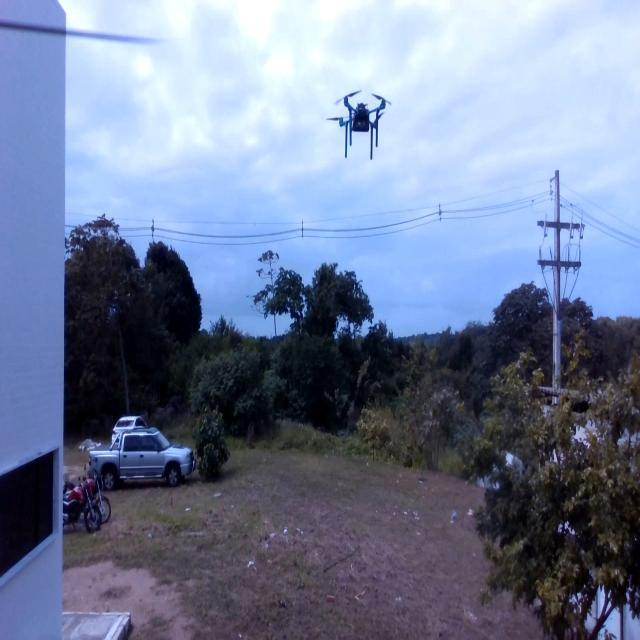-uav-: (316, 76, 406, 180)
